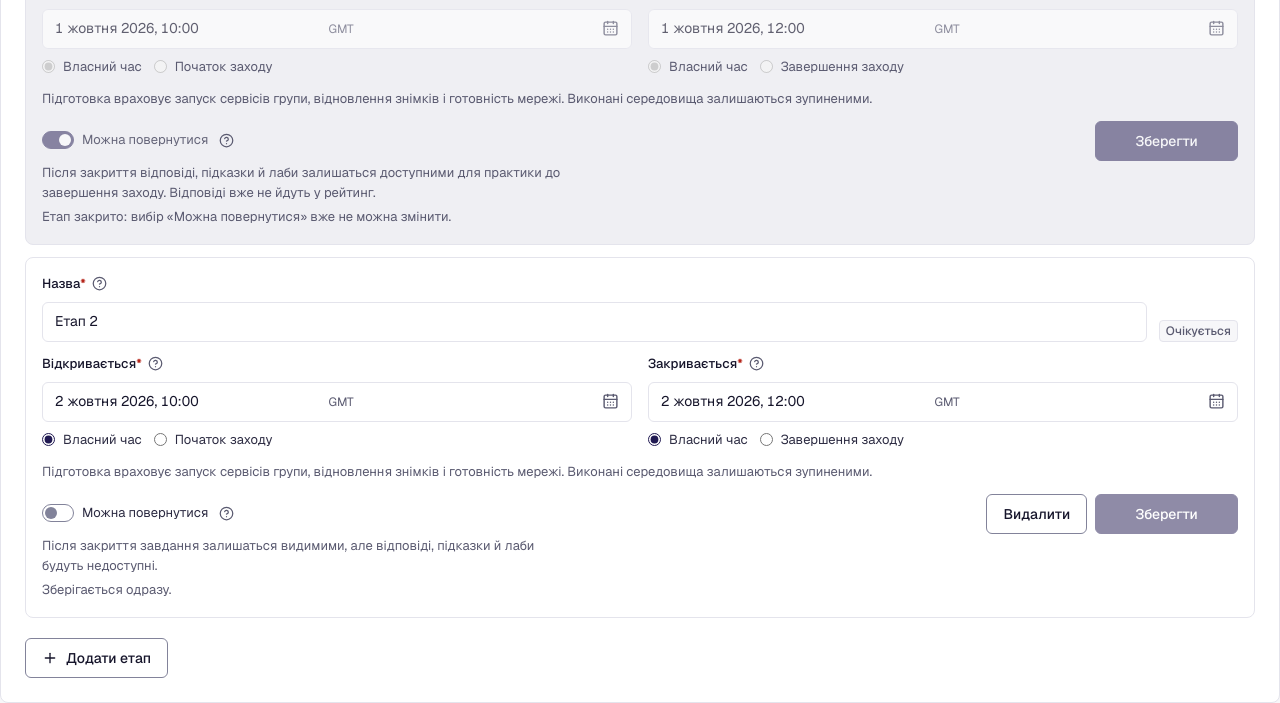
Test: the stages block › explains the selected returnable state and keeps field help reachable on closed stages
(page scrolled)
expect the text "для практики" is shown: met, box [42,164,560,201]
expect the text "недоступні" is shown: met, box [42,537,534,574]
Click the 2nd switch labelled "Можна повернутися". click: [125, 513]
box: [42,504,208,522]
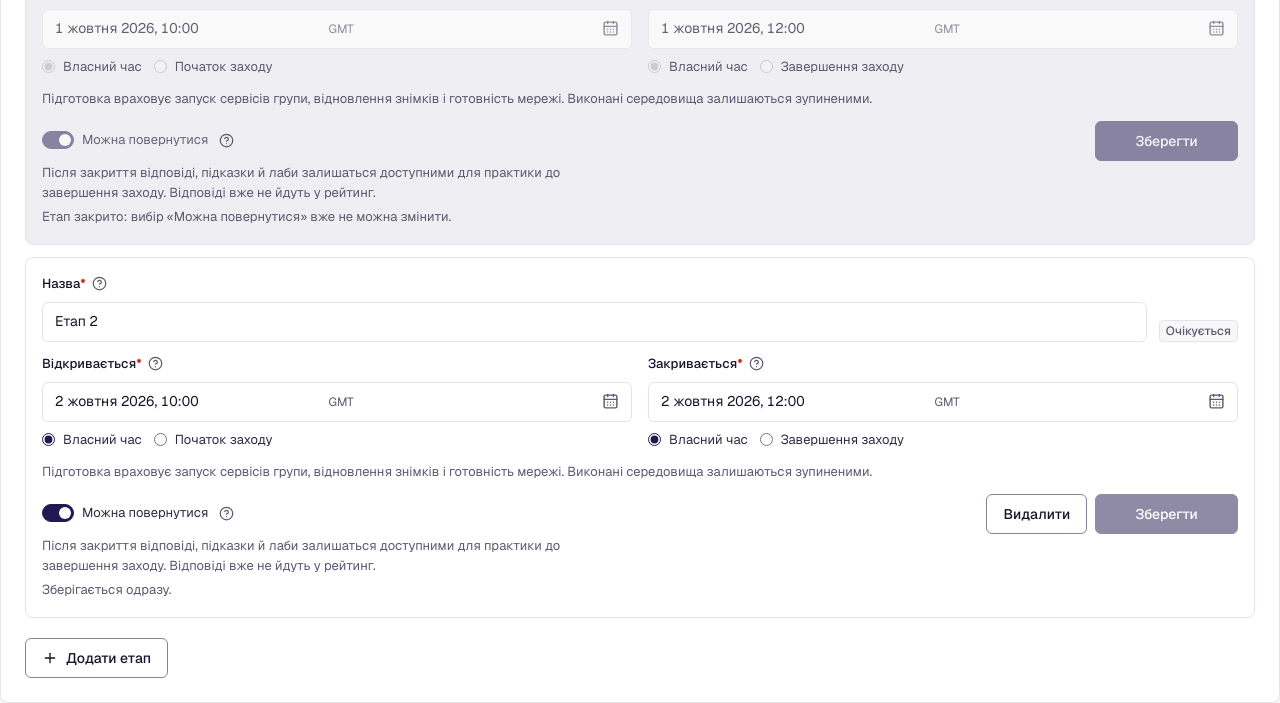
expect the 1st button named "Про поле «Можна повернутися»" is enabled: met, box [216,130,236,150]
expect the 2nd text "для практики" is shown: met, box [42,537,560,574]
